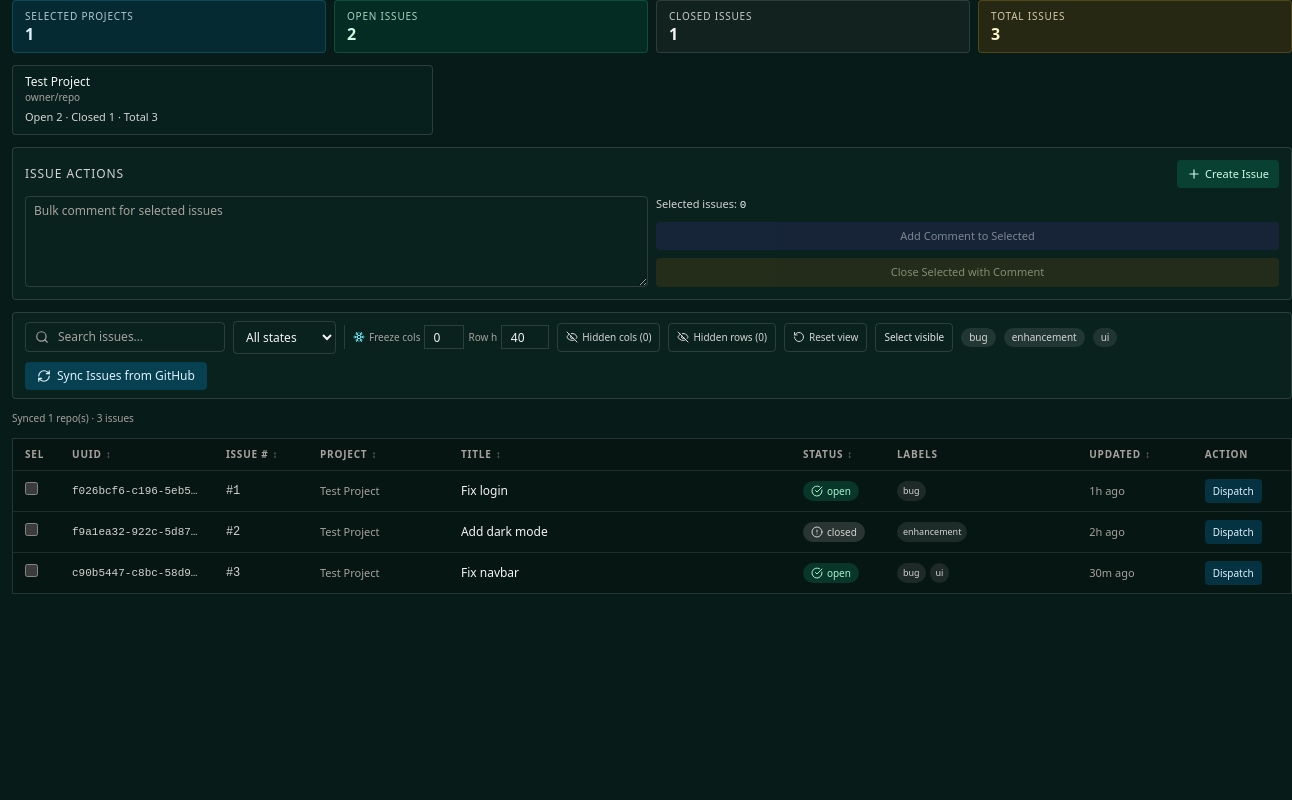
Test case: IssuesTab › filter dropdown shows only open issues
Expected: the text "#1" is shown, x1=226 y1=484 x2=240 y2=498
Expected: the text "#2" is shown, x1=226 y1=525 x2=240 y2=539
Note: Filter to open only
Step 1. Select "Open only" in the dropdown named "State filter" → (284, 337), box x1=233 y1=320 x2=336 y2=354
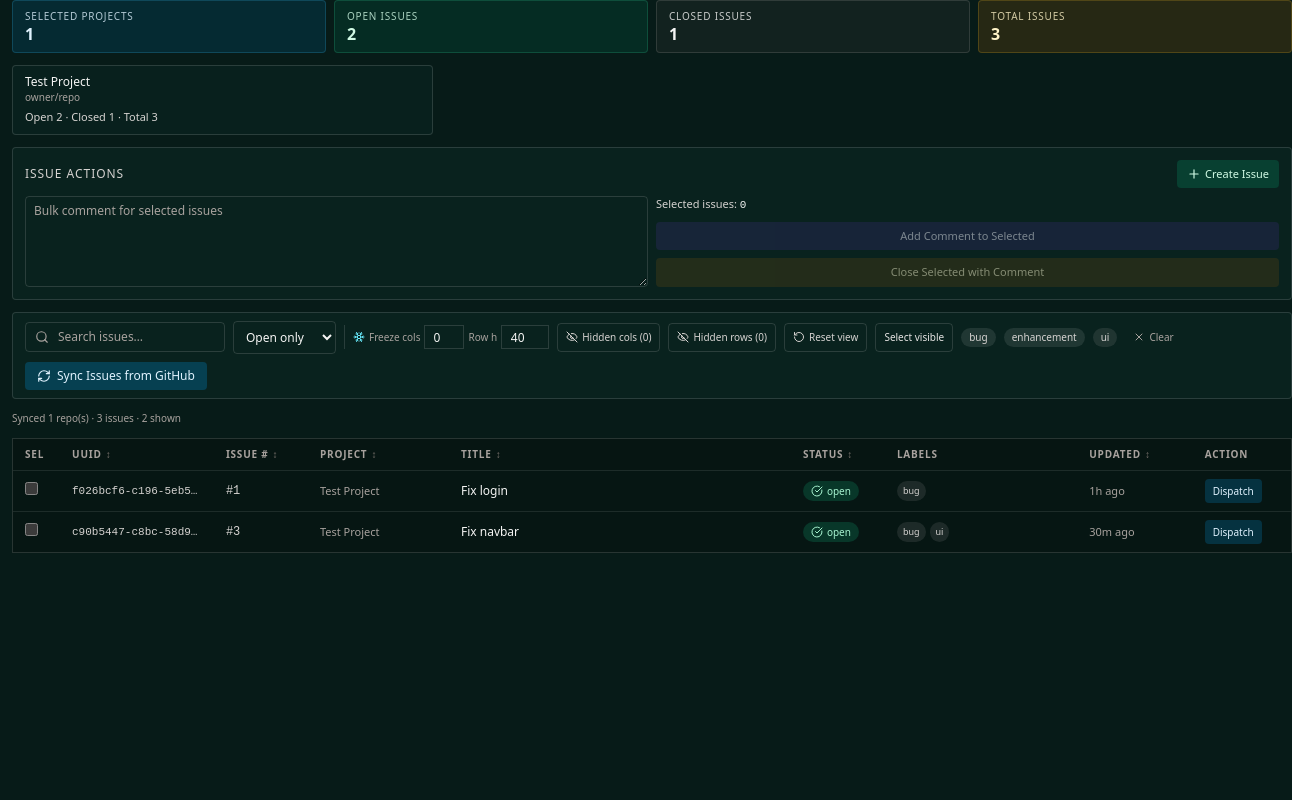
Expected: the text "#1" is shown, x1=226 y1=484 x2=240 y2=498
Expected: the text "#2" is gone
